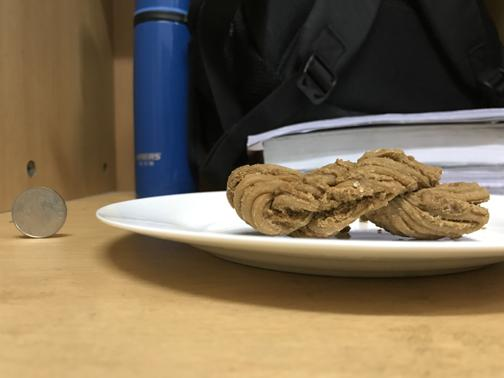coin: (8, 185, 67, 239)
fired_dough_twist: (226, 149, 487, 239)
